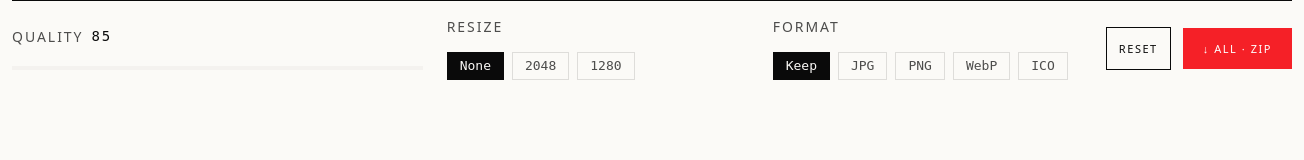
Test: Controls reset › asks for confirmation on the armed button itself
What coordinates should you click on to do the following:
click the button "Reset"
I would click on:
 (1138, 49)
Its box is [1106,27,1171,70].
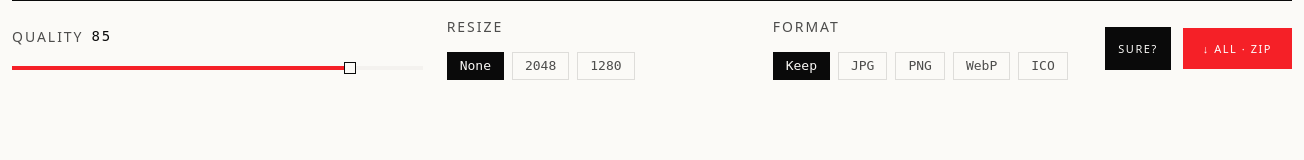
Now the button "Sure?" is shown, box [1105,27,1171,70]
